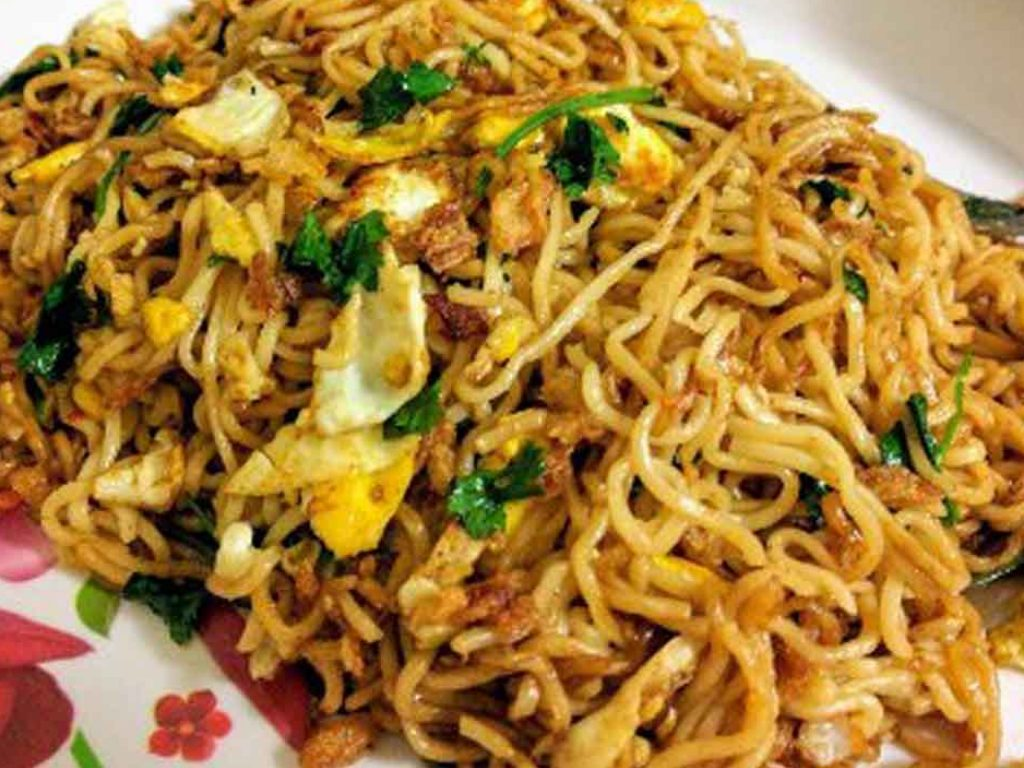Mie: (3, 1, 1024, 765)
